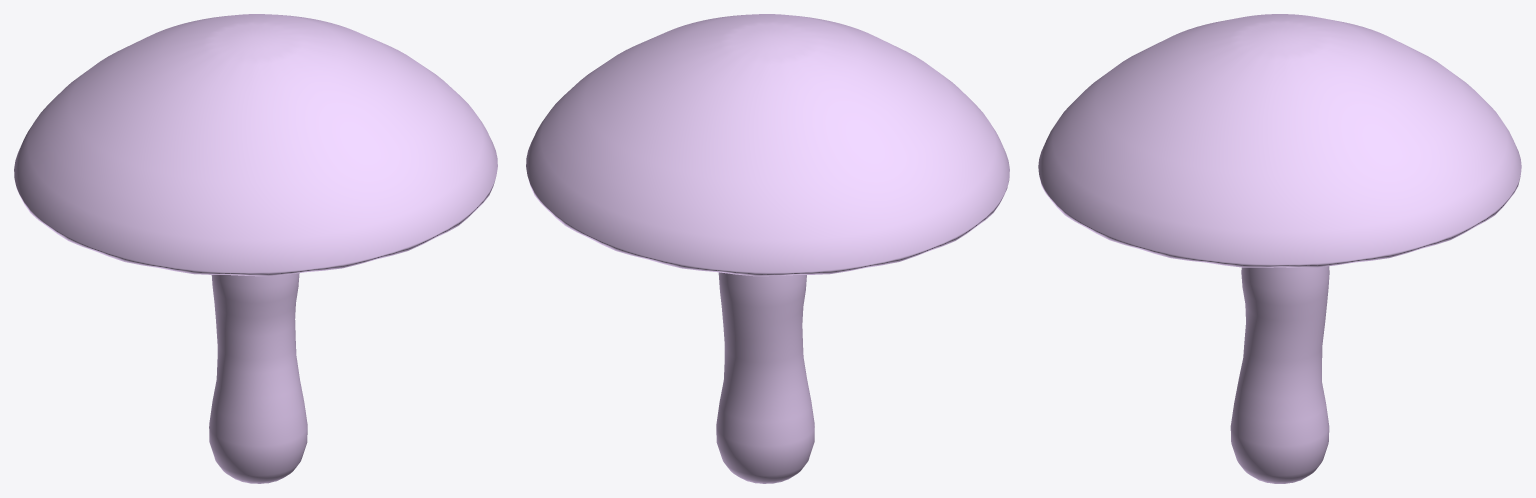
The model's file is Mushroom4.fbx.
3 renders of one model, left to right at view 1: azimuth 30°, elevation 25°; view 2: azimuth 150°, elevation 25°; view 3: azimuth 270°, elevation 25°, orthographic.
Visible parts, largest first — view 1: Hat, Stamp; view 2: Hat, Stamp; view 3: Hat, Stamp.
Boxes of the visible parts, bbox=[...] form: Hat: bbox=[14, 14, 497, 276]; Stamp: bbox=[209, 273, 307, 483]; Hat: bbox=[526, 14, 1009, 276]; Stamp: bbox=[716, 272, 814, 483]; Hat: bbox=[1038, 14, 1521, 267]; Stamp: bbox=[1230, 266, 1329, 483].
Size of the model in its own units: 503 by 502 by 503.
